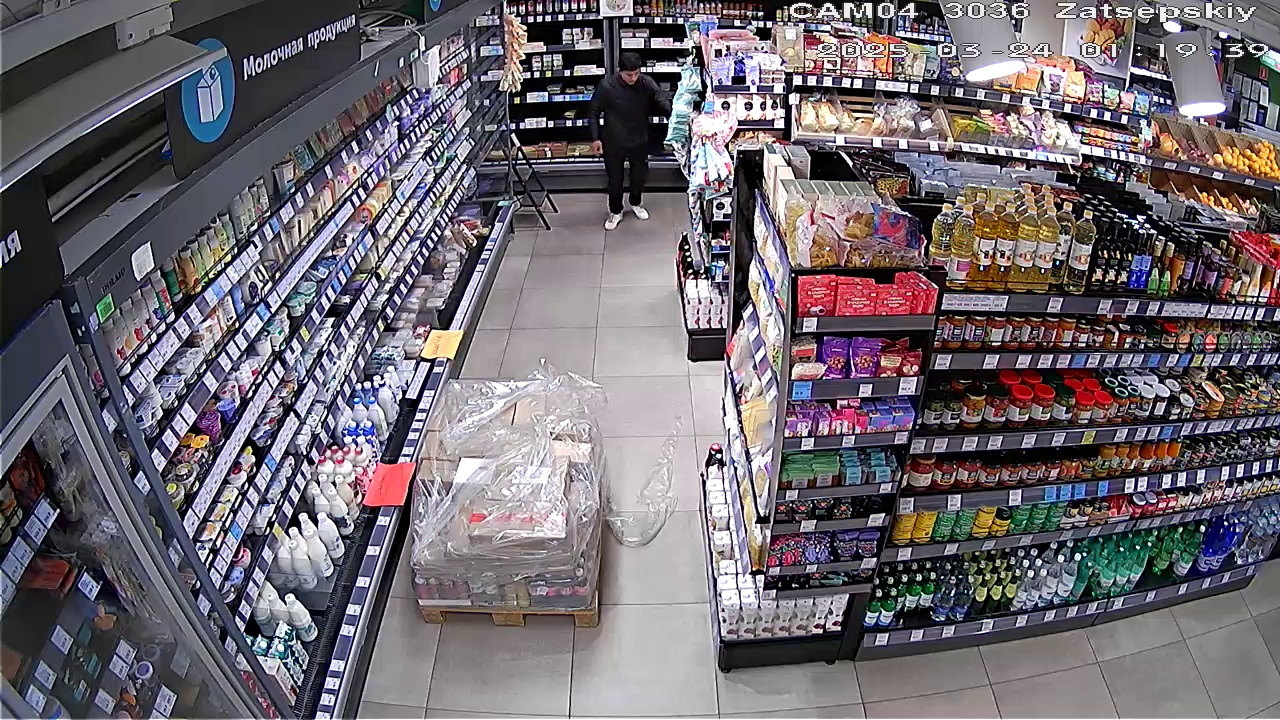Human: (579, 48, 670, 232)
pallet: (411, 373, 604, 630)
